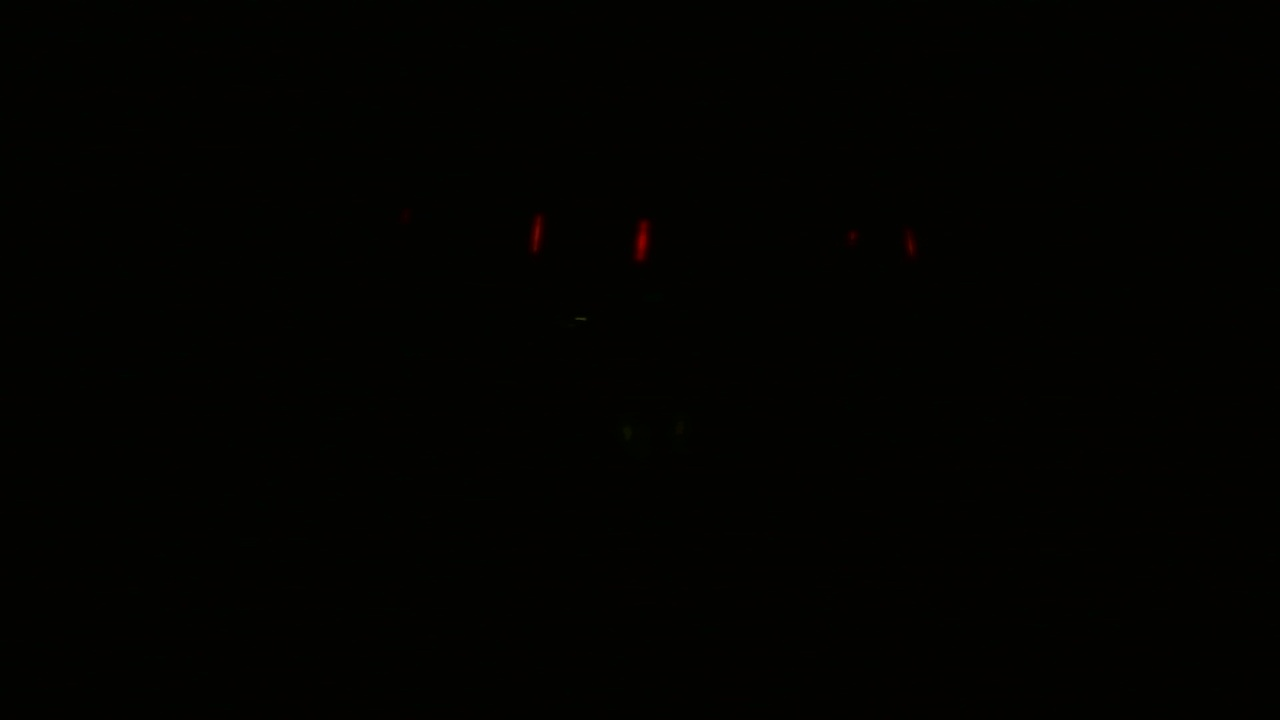pair1: (528, 215, 649, 264)
